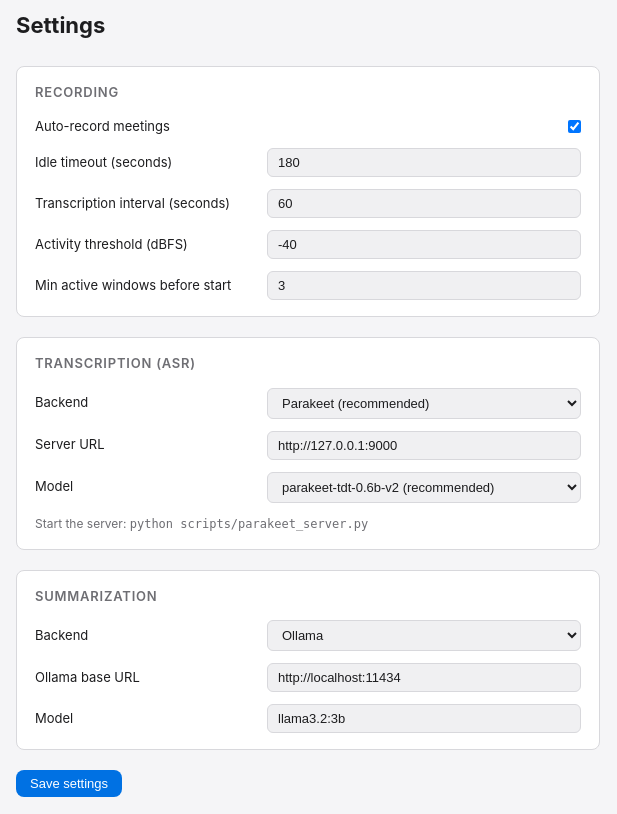
it: SettingsPanel › toggles auto-record checkbox
Step 1. Click the checkbox → click(574, 126), box [568,120,581,133]
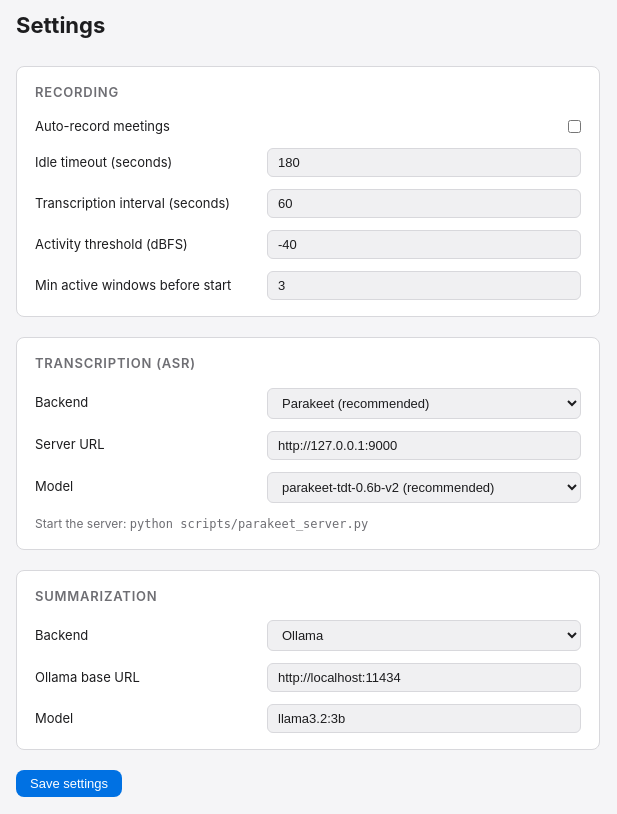
Check: the checkbox is not checked, box [568,120,581,133]
